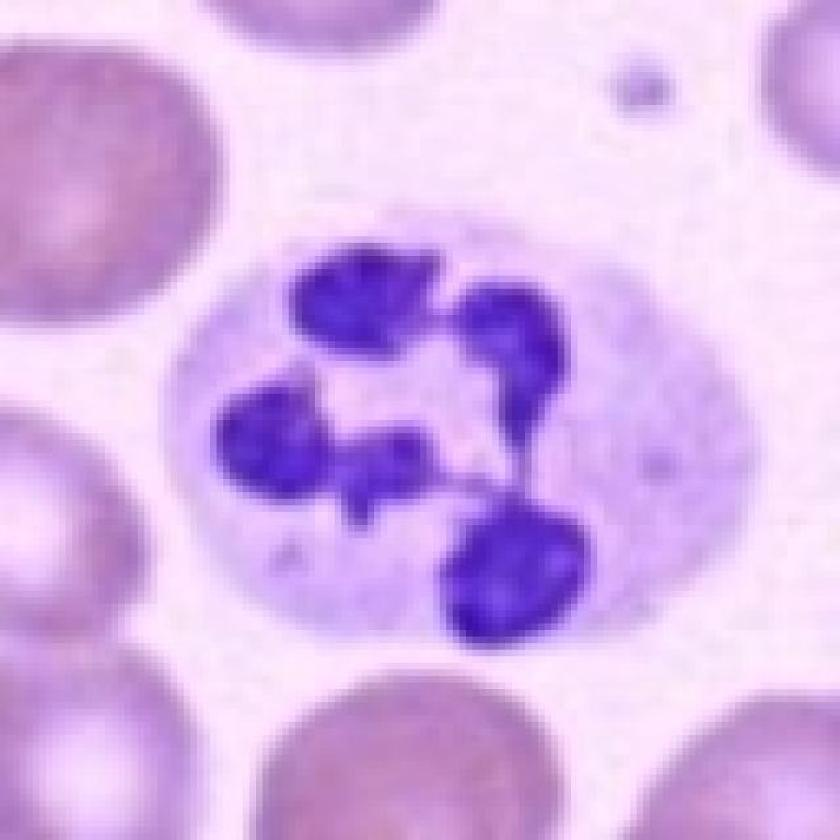neutrophil: (132, 181, 736, 661)
